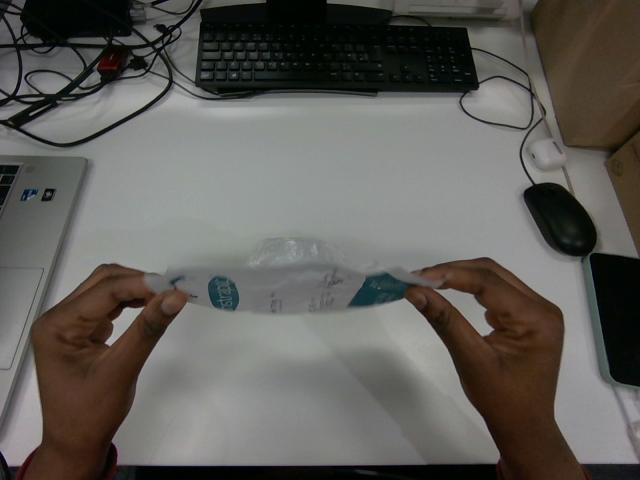gallipot: (145, 239, 441, 313)
